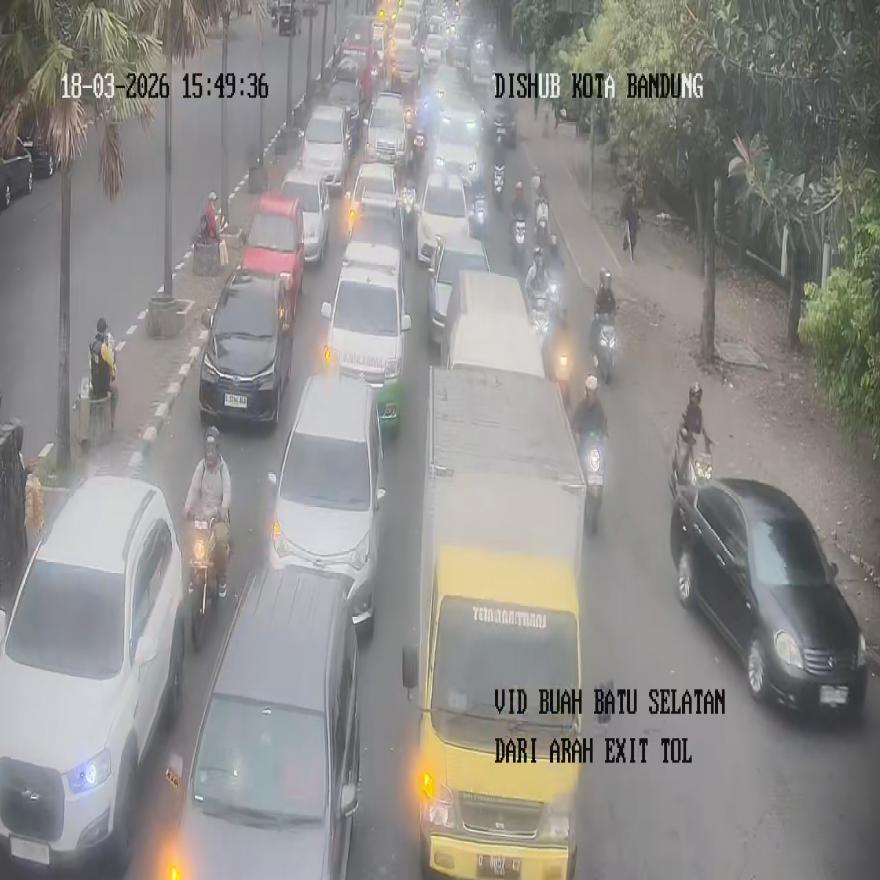Motor: (0, 474, 186, 872), (164, 567, 360, 879), (670, 478, 868, 717), (266, 374, 384, 632), (321, 240, 411, 430), (198, 266, 294, 426), (240, 191, 305, 319), (428, 228, 489, 354), (280, 167, 329, 264)
Truk: (187, 512, 226, 650), (670, 426, 713, 502), (577, 429, 605, 533), (592, 313, 618, 385), (469, 178, 487, 238), (536, 197, 551, 253), (510, 216, 526, 266), (492, 160, 505, 210)
